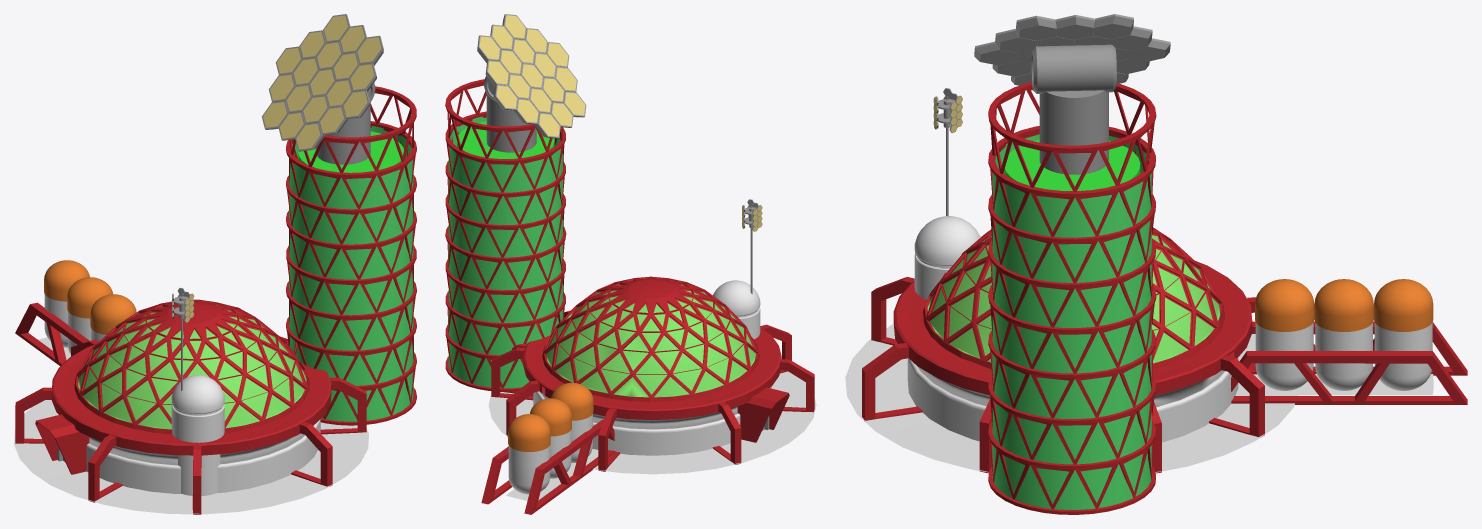
The model's file is Eco_Hub.fbx.
3 views of the same model, side by side, from view 1: azimuth 30°, elevation 25°; view 2: azimuth 150°, elevation 25°; view 3: azimuth 270°, elevation 25° (orthographic). The views are drawn at different scales.
Parts seen in each view (by area): view 1: Sphere.014; view 2: Sphere.014; view 3: Sphere.014.
Part boxes in pixels (x1,y1,x2,y2): Sphere.014: (14,14,416,514); Sphere.014: (445,14,816,514); Sphere.014: (845,14,1467,514).
Bounding box in the file's own units: 15.78 × 15.25 × 17.93.
